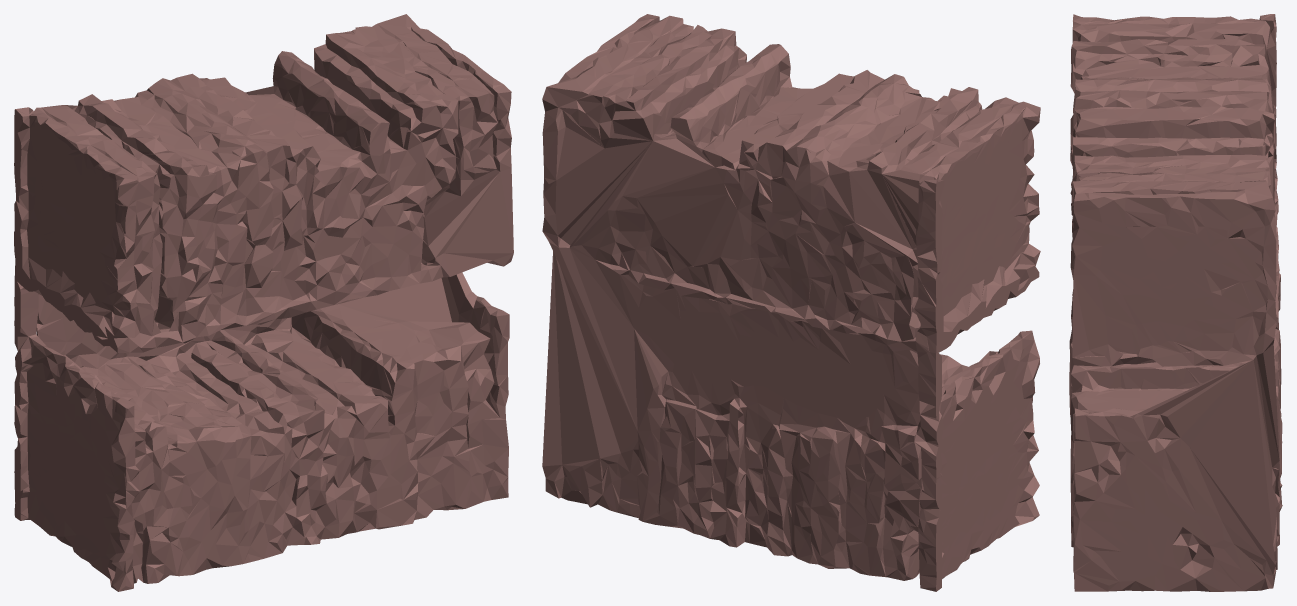
Rendered from triposg_v6.glb.
The picture shows the model from 3 angles, left to right: view 1: azimuth 30°, elevation 25°; view 2: azimuth 150°, elevation 25°; view 3: azimuth 270°, elevation 25°; orthographic projection. The views are drawn at different scales.
Parts seen in each view (by area): view 1: world; view 2: world; view 3: world.
Boxes of the visible parts, bbox=[...] form: world: bbox=[14, 14, 513, 591]; world: bbox=[542, 14, 1040, 591]; world: bbox=[1069, 14, 1282, 591].
Size of the model in its own units: 1.88 by 1.87 by 0.9082.
